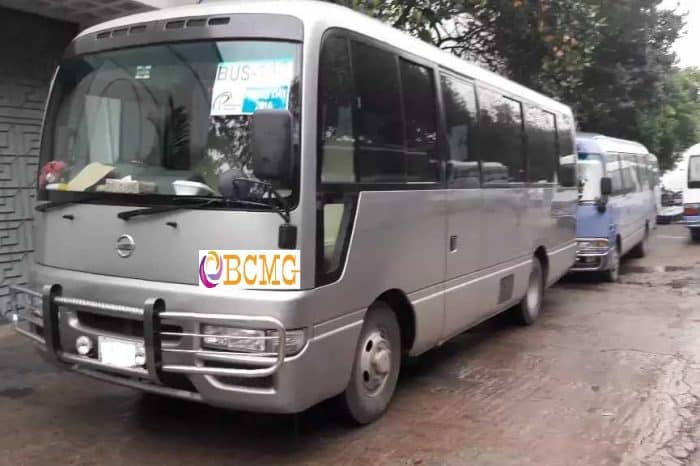minibus: (5, 1, 578, 424), (575, 131, 658, 285), (679, 143, 700, 241)
